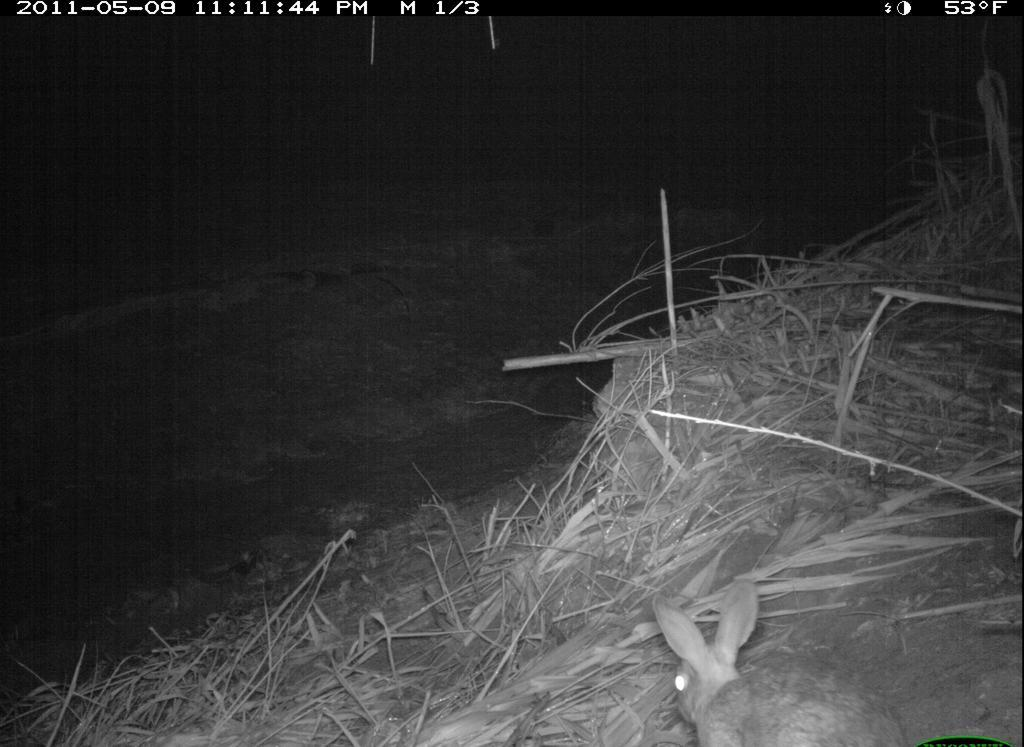rabbit: (637, 574, 911, 747)
